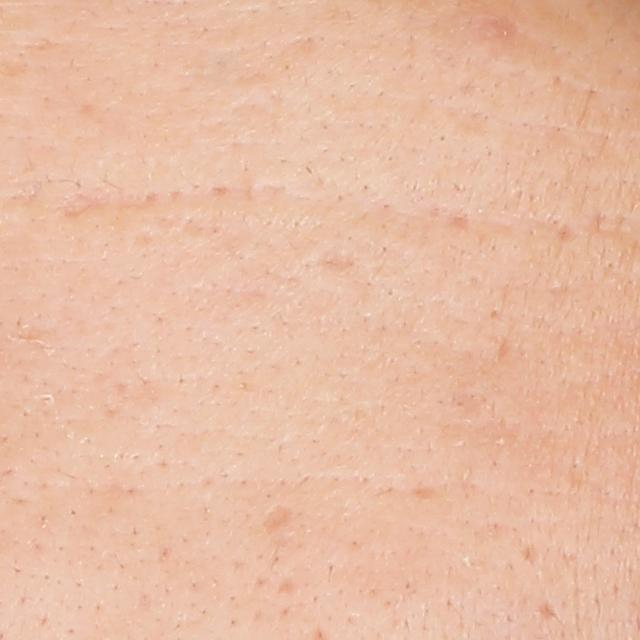atrophic_scar: (300, 241, 357, 274), (263, 503, 294, 534), (446, 205, 475, 234), (534, 598, 564, 623), (556, 215, 578, 245), (277, 577, 299, 594)
